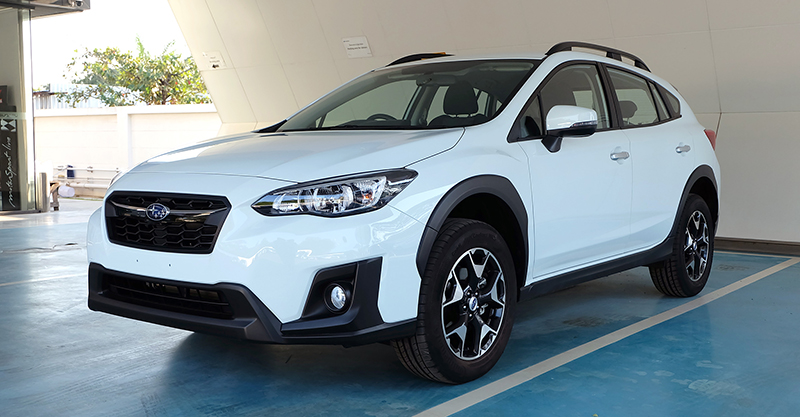pickup: (86, 41, 721, 385)
